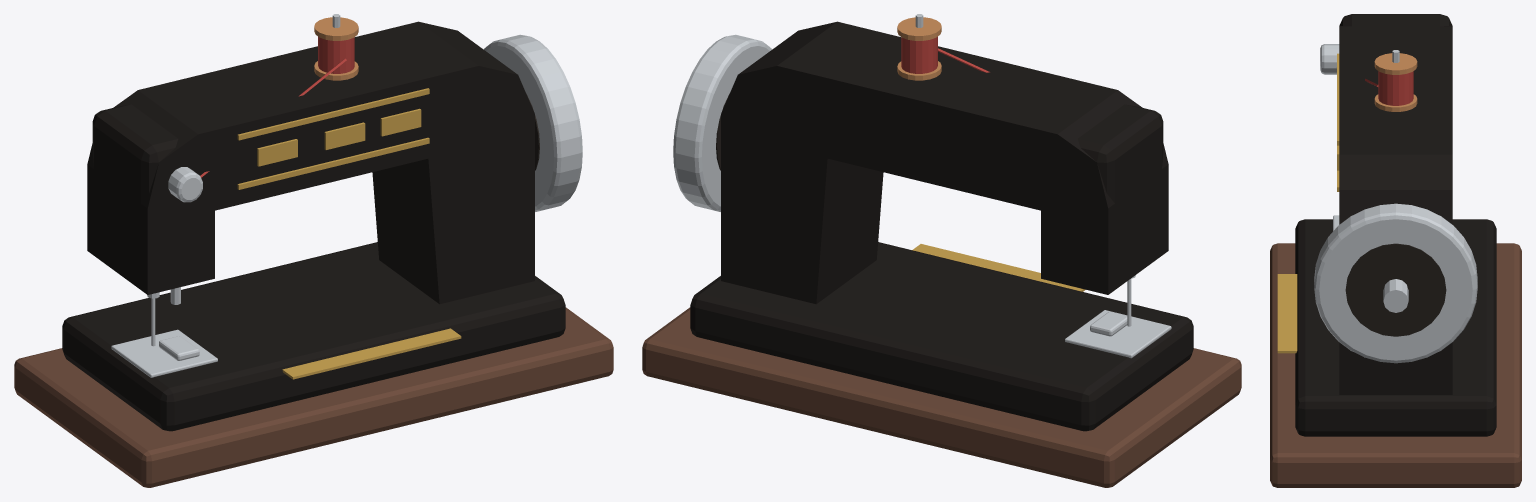
File: hh_cat_sewing_machine.glb
The picture shows the model from 3 angles, left to right: view 1: azimuth 30°, elevation 25°; view 2: azimuth 150°, elevation 25°; view 3: azimuth 270°, elevation 25°; orthographic projection. The views are drawn at different scales.
Visible parts, largest first — view 1: arm, bed, base_board, hand_wheel, head, needle_plate, bed_trim, decal_line.001, decal_line, spool, tension_knob, spool_end.001 (+4 smaller); view 2: arm, bed, base_board, hand_wheel, head, needle_plate, bed_trim, spool, spool_end.001, presser_foot; view 3: arm, base_board, bed, hand_wheel, wheel_hub, bed_trim, head, spool, spool_end.001, wheel_axle, tension_knob, spool_end.
Boxes of the visible parts, <box> form: arm: <box>87,21,534,304</box>; bed: <box>62,242,565,431</box>; base_board: <box>14,307,613,487</box>; hand_wheel: <box>484,34,582,211</box>; head: <box>92,104,203,211</box>; needle_plate: <box>111,329,217,377</box>; bed_trim: <box>282,328,461,379</box>; decal_line.001: <box>237,88,429,140</box>; decal_line: <box>237,137,429,189</box>; spool: <box>318,36,354,73</box>; tension_knob: <box>168,167,202,202</box>; spool_end.001: <box>314,17,358,40</box>; arm: <box>721,21,1168,304</box>; bed: <box>690,242,1193,431</box>; base_board: <box>642,307,1241,487</box>; hand_wheel: <box>673,34,771,211</box>; head: <box>1052,104,1163,210</box>; needle_plate: <box>1065,310,1171,358</box>; bed_trim: <box>912,244,1085,291</box>; spool: <box>901,36,937,73</box>; spool_end.001: <box>897,17,941,40</box>; presser_foot: <box>1090,311,1127,336</box>; arm: <box>1339,26,1452,394</box>; base_board: <box>1270,243,1521,487</box>; bed: <box>1295,219,1496,436</box>; hand_wheel: <box>1314,203,1477,363</box>; wheel_hub: <box>1345,243,1446,336</box>; bed_trim: <box>1277,274,1297,353</box>; head: <box>1339,14,1452,26</box>; spool: <box>1378,71,1413,105</box>; spool_end.001: <box>1374,53,1417,74</box>; wheel_axle: <box>1383,279,1408,312</box>; tension_knob: <box>1320,44,1339,74</box>; spool_end: <box>1374,94,1417,111</box>.
Size of the model in its own units: 0.42 by 0.3 by 0.2.
